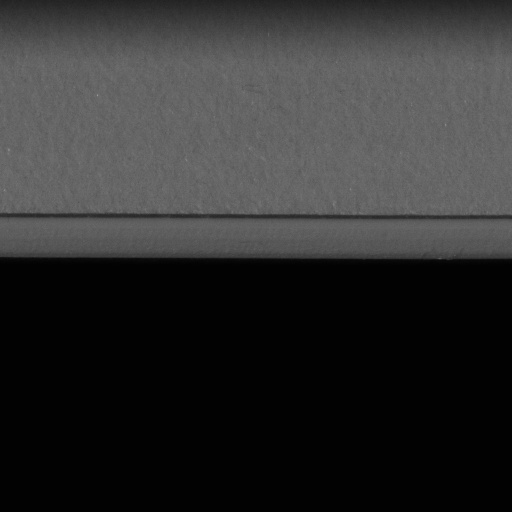jiaofeng: (0, 207, 511, 230)
